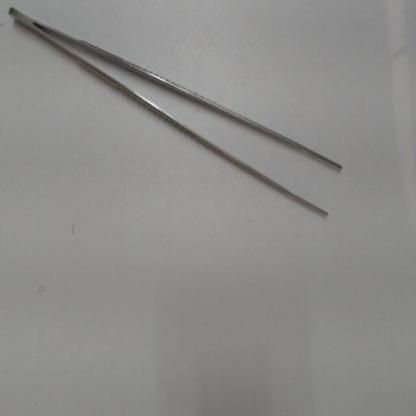DeBakey Dissector: (5, 2, 375, 235)
